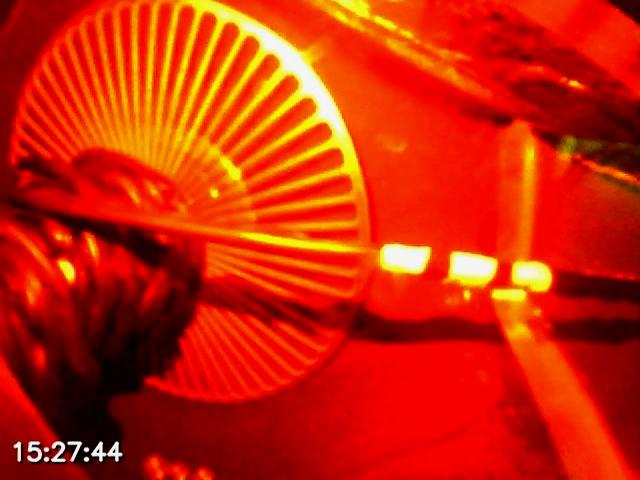white-dots: (378, 242, 553, 292)
